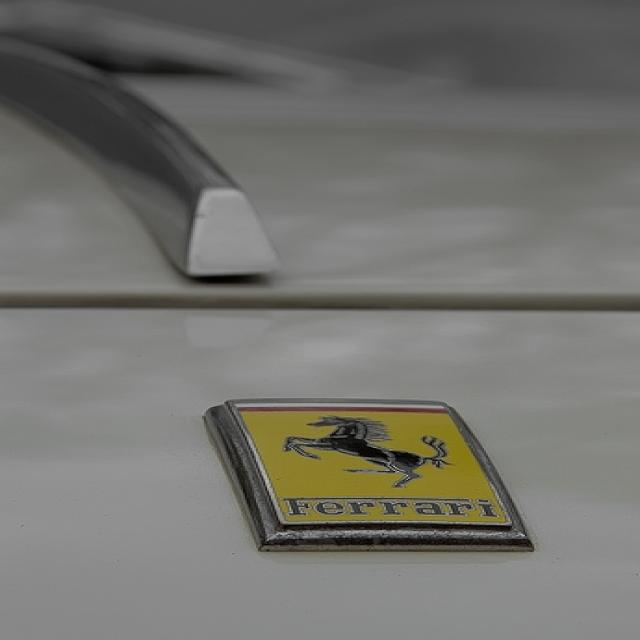ferrari: (229, 402, 513, 526)
